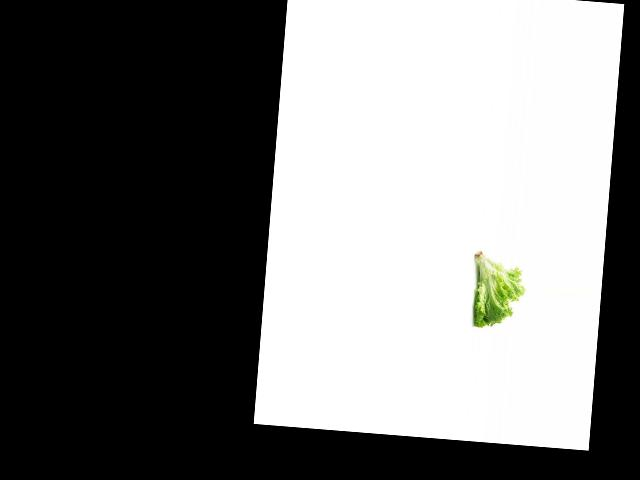lettuce: (467, 248, 528, 330)
